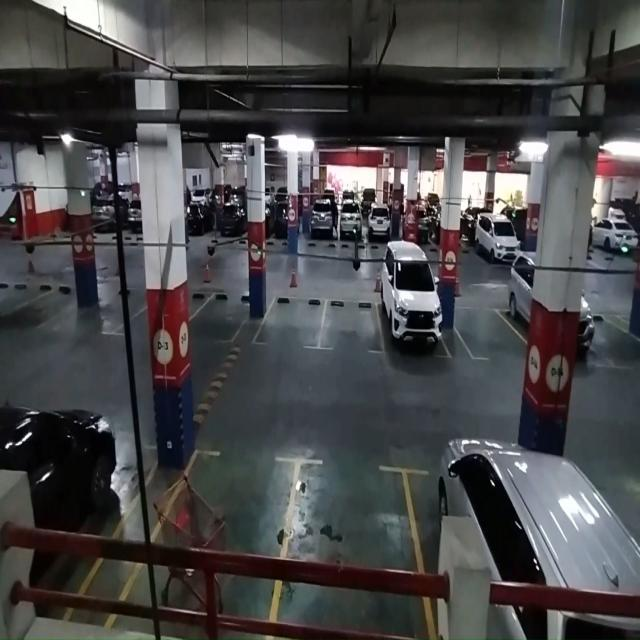empty: (282, 451, 419, 636), (255, 288, 324, 360), (462, 291, 522, 366), (318, 297, 381, 364)
occupied: (415, 433, 579, 637), (377, 260, 448, 368)
